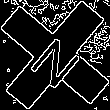N_NE: (23, 23, 87, 87)
